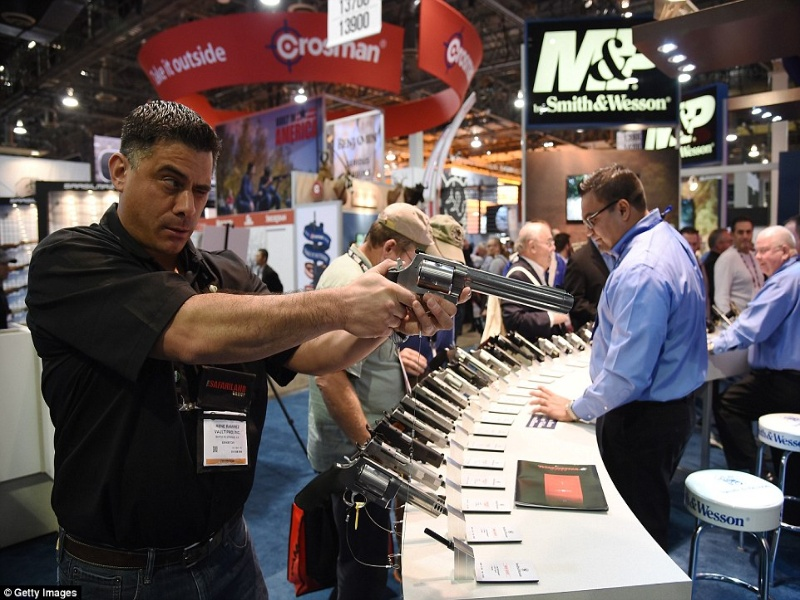gun: (381, 241, 574, 350)
